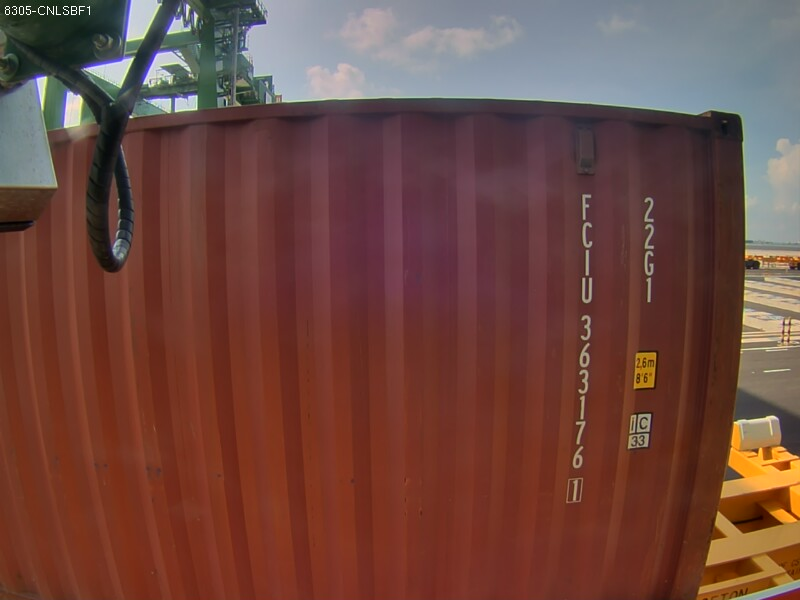container_no_door: (214, 89, 740, 541)
